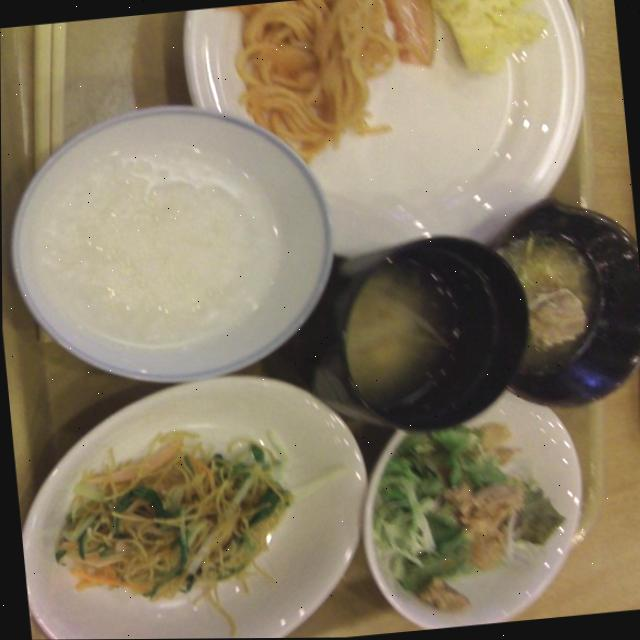汤锅炖物: (305, 244, 525, 427)
